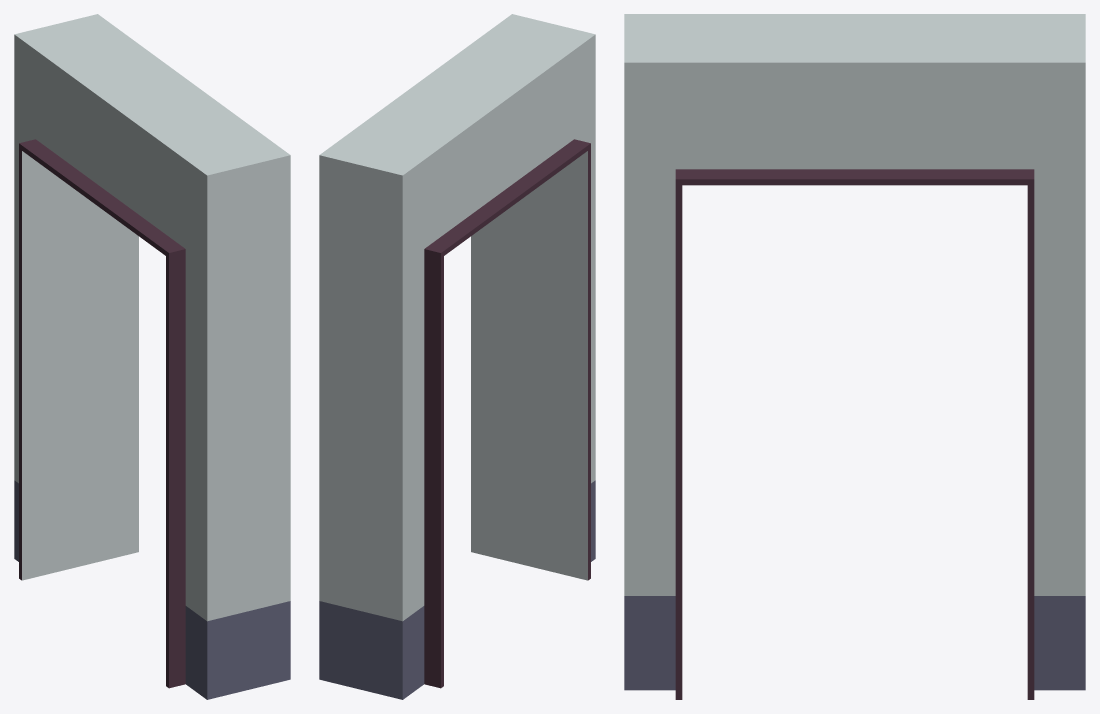
The model's file is Doorway.fbx.
The picture shows the model from 3 angles, left to right: view 1: azimuth 30°, elevation 25°; view 2: azimuth 150°, elevation 25°; view 3: azimuth 270°, elevation 25°; orthographic projection. The views are drawn at different scales.
Visible parts, largest first — view 1: Doorway; view 2: Doorway; view 3: Doorway.
Part boxes in pixels (bbox=[...]): Doorway: bbox=[14, 14, 290, 699]; Doorway: bbox=[319, 14, 595, 699]; Doorway: bbox=[624, 14, 1085, 699].
Bounding box in the file's own units: 70 × 300 × 200.
